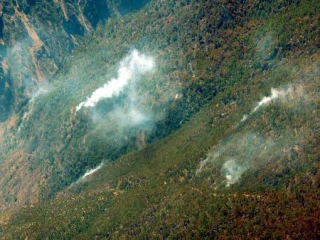smoke: (66, 52, 154, 117), (226, 83, 300, 130)
